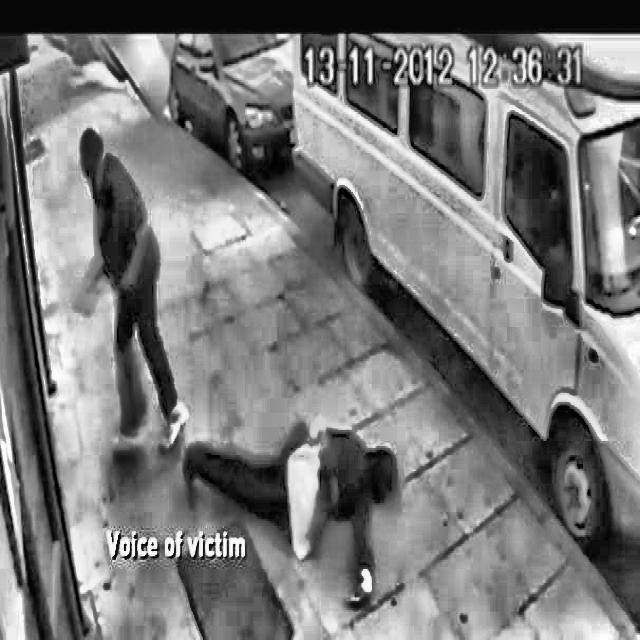robbery: (67, 114, 409, 638)
